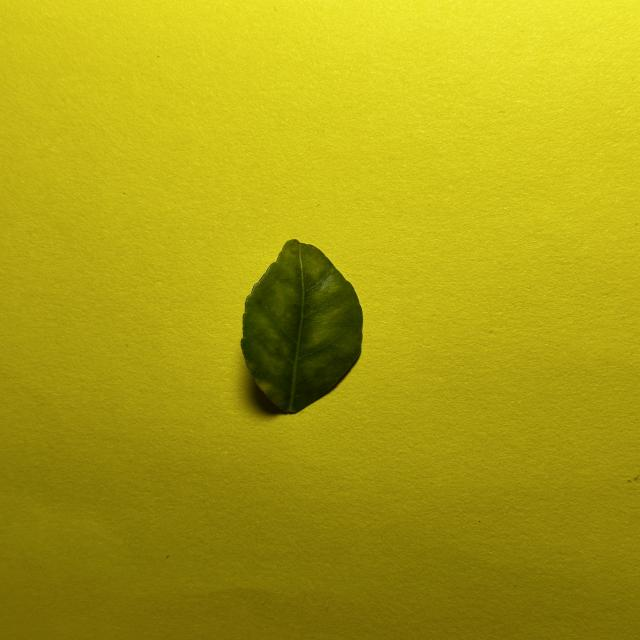greening: (241, 240, 362, 413)
